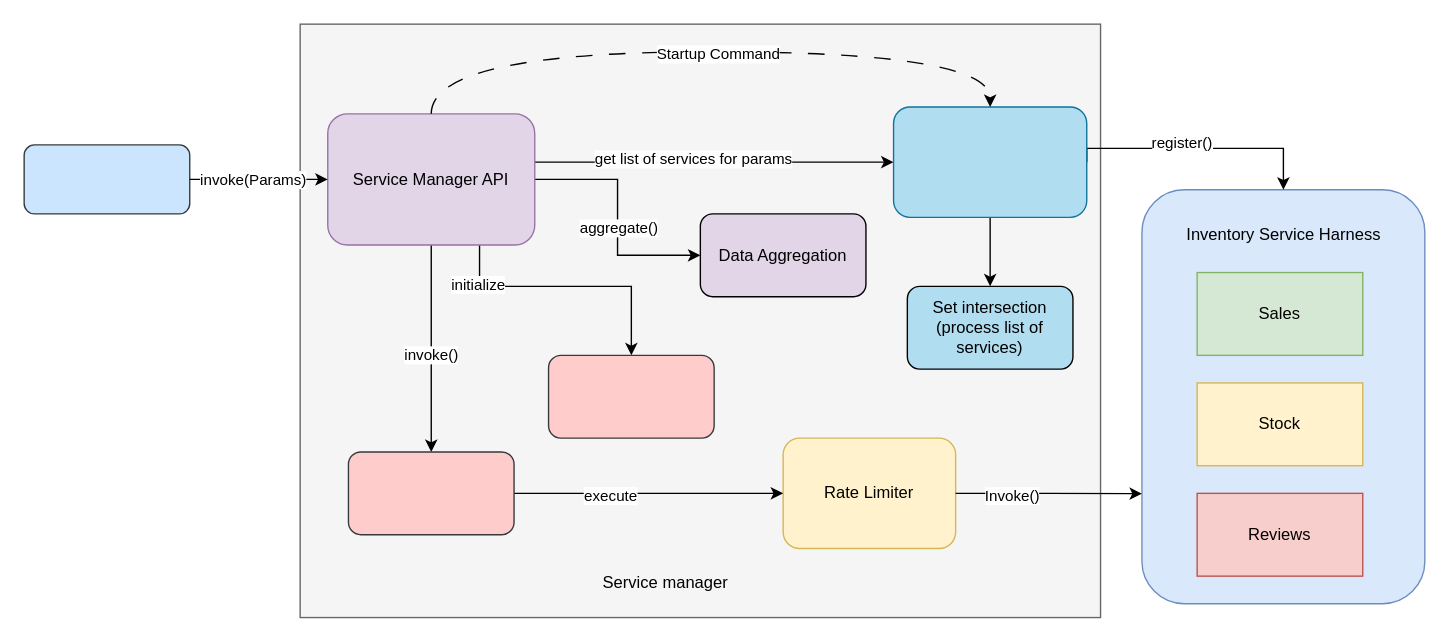
Some shapes in this 1449 by 642 pixel diagram are drawn without their labels. Each missing label, with the box of its shape:
Service Clients: (23, 144, 190, 214)
ServiceRegistry: (892, 106, 1087, 217)
Thread Pool: (547, 354, 714, 438)
Thread Pool Executor: (347, 451, 514, 535)
